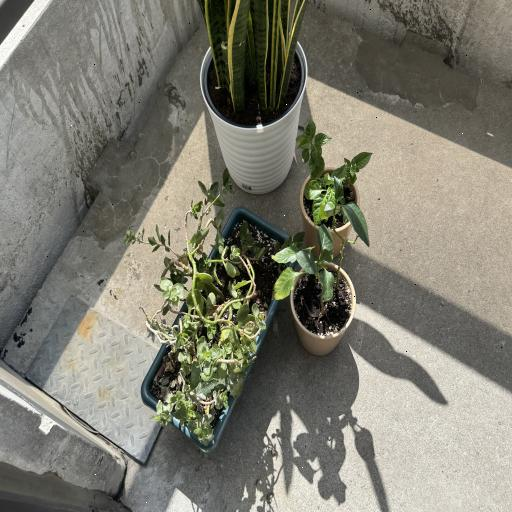Plant Pot: (200, 28, 307, 195), (290, 261, 356, 353), (300, 165, 362, 254)
